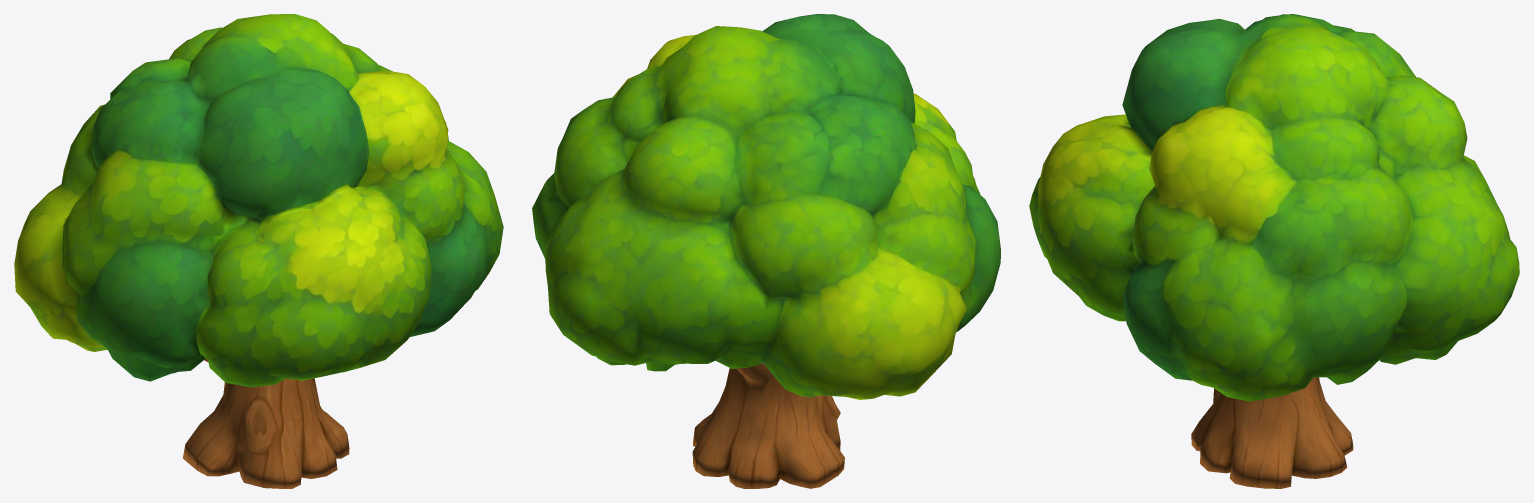
The model's file is tree_oak.glb.
3 renders of one model, left to right at view 1: azimuth 30°, elevation 25°; view 2: azimuth 150°, elevation 25°; view 3: azimuth 270°, elevation 25°, orthographic.
Parts seen in each view (by area): view 1: geometry_0; view 2: geometry_0; view 3: geometry_0.
Part boxes in pixels (x1=…): geometry_0: x1=14, y1=14, x2=503, y2=488; geometry_0: x1=532, y1=14, x2=1000, y2=488; geometry_0: x1=1029, y1=14, x2=1519, y2=488.
Size of the model in its own units: 0.9565 by 0.9175 by 0.9492.
1 material, 1 textured.
